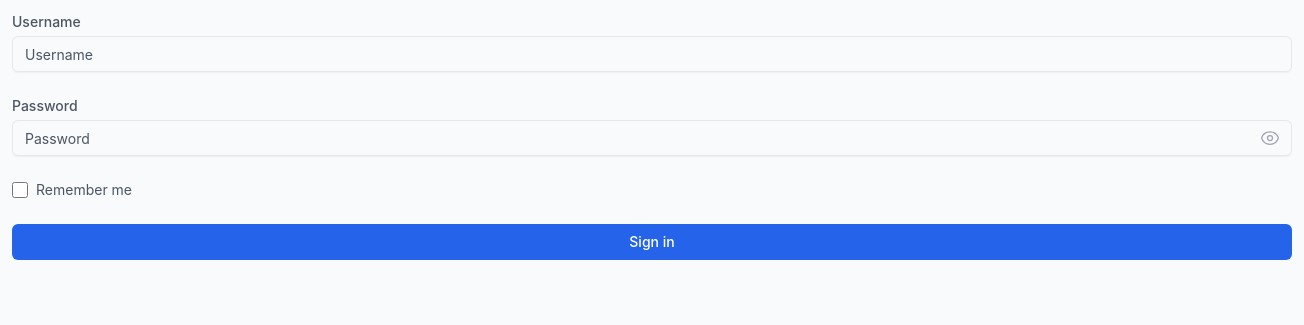
LoginForm › shows validation errors and does not submit when fields are empty
Click the button with test id "login-button" at (652, 242), box [12,224,1292,260]
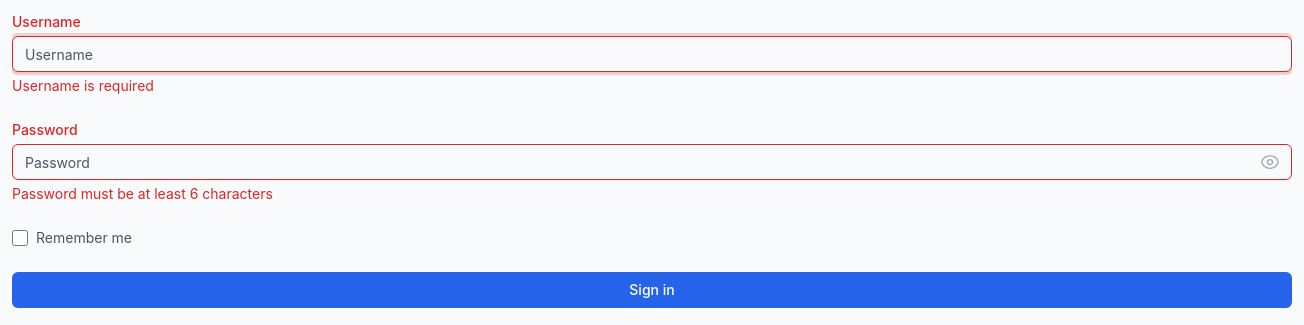
Now the text "Username is required" is shown, box [12,77,154,94]
Now the text "Password must be at least 6 characters" is shown, box [12,185,273,202]
